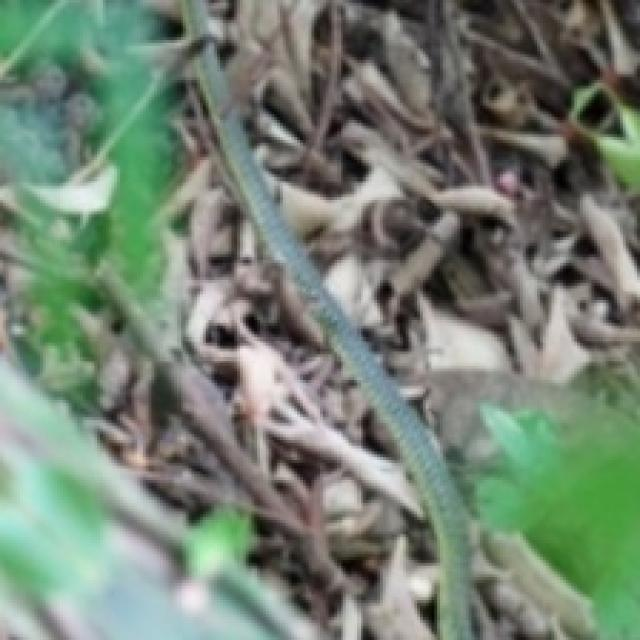paradise tree snake: (183, 0, 471, 637)
